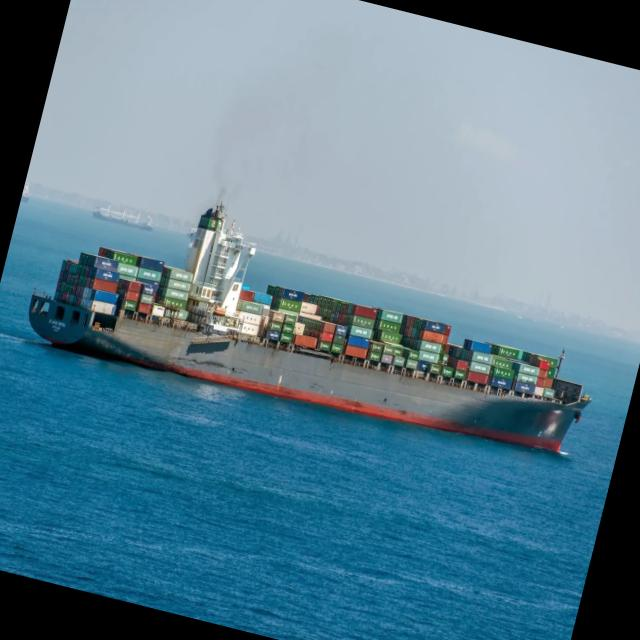Cargo: (29, 204, 591, 451)
